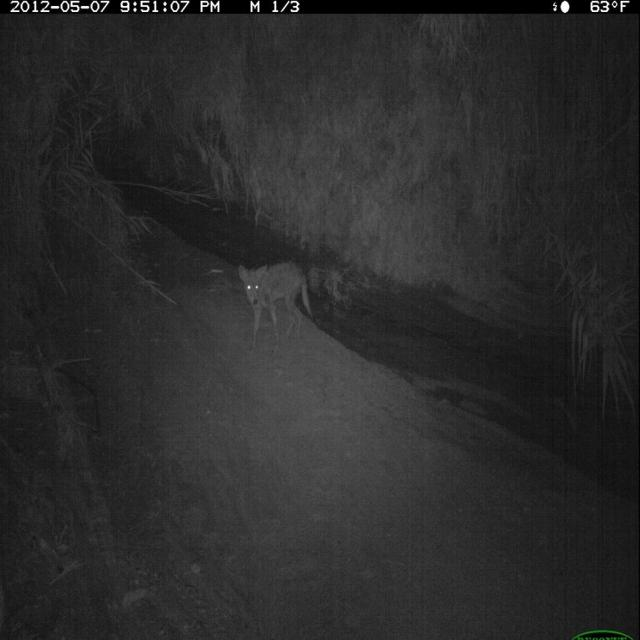coyote: (236, 258, 314, 361)
